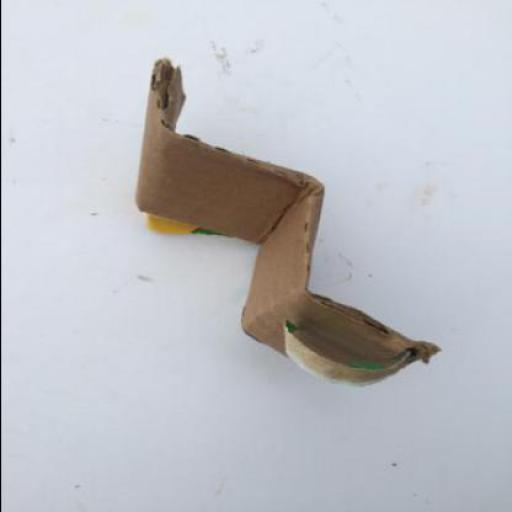cardboard: (135, 58, 442, 388), (238, 186, 438, 384), (134, 58, 324, 245)
